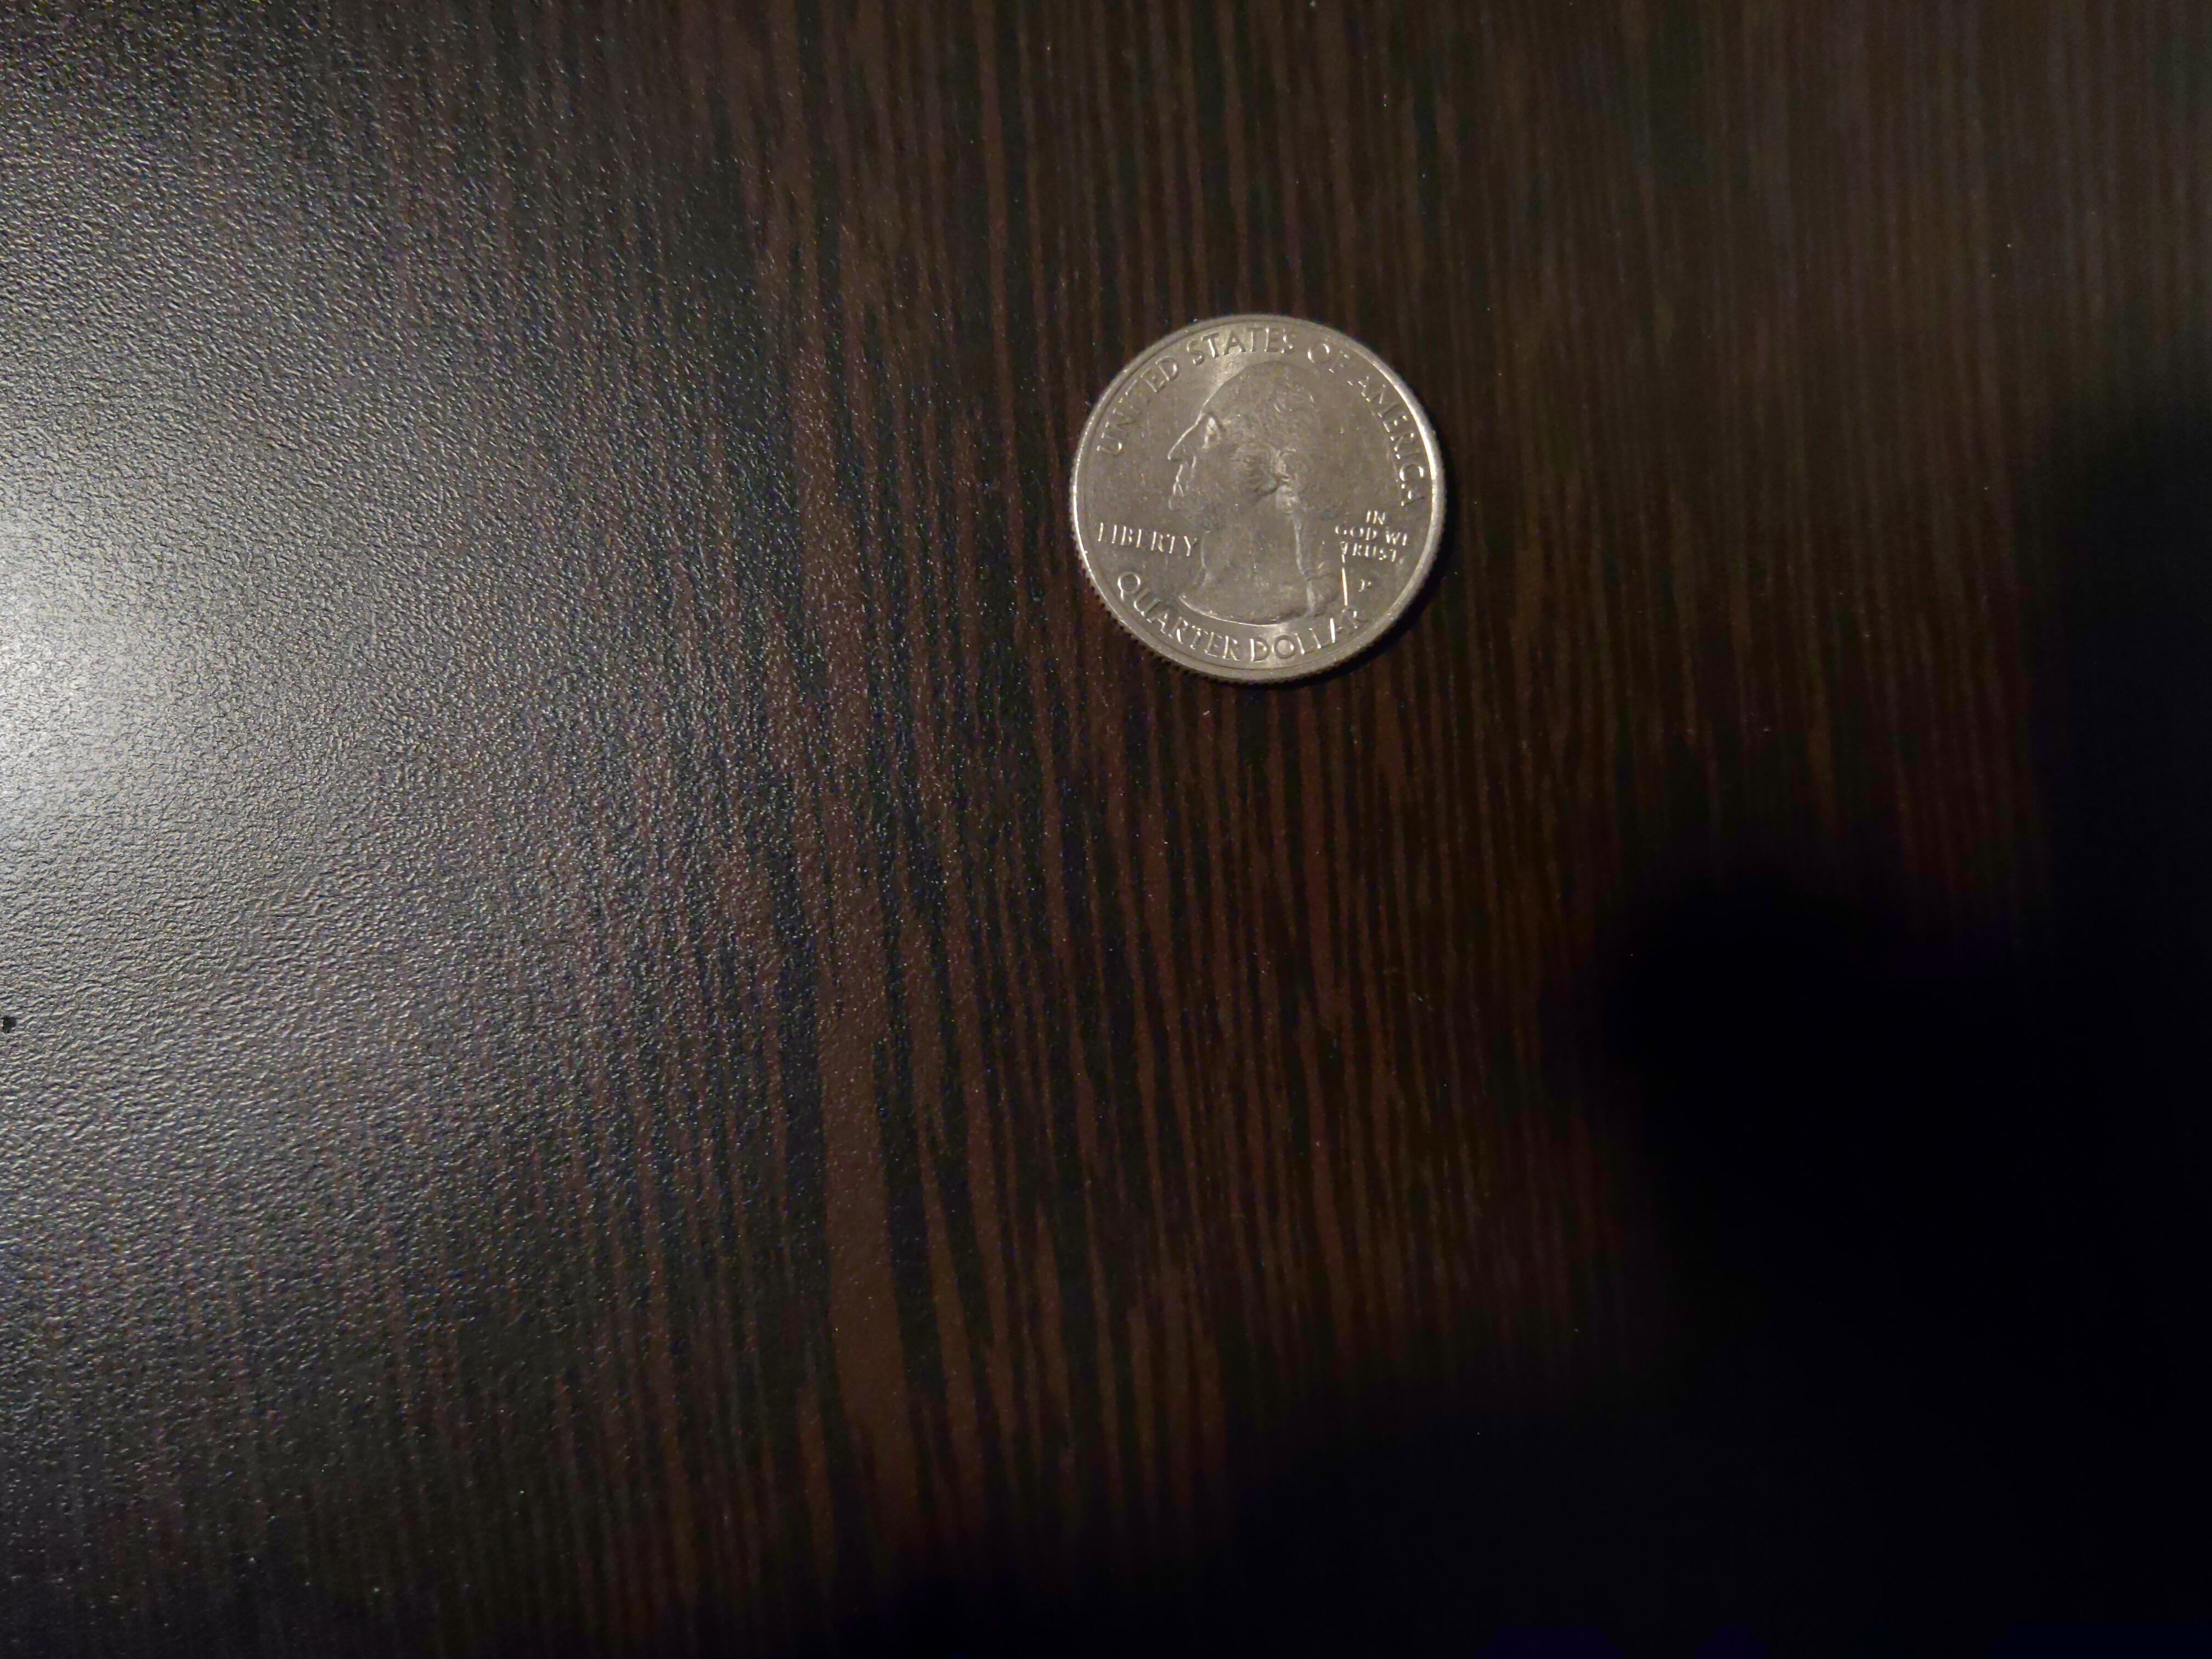Quarter: (1064, 310, 1453, 690)
